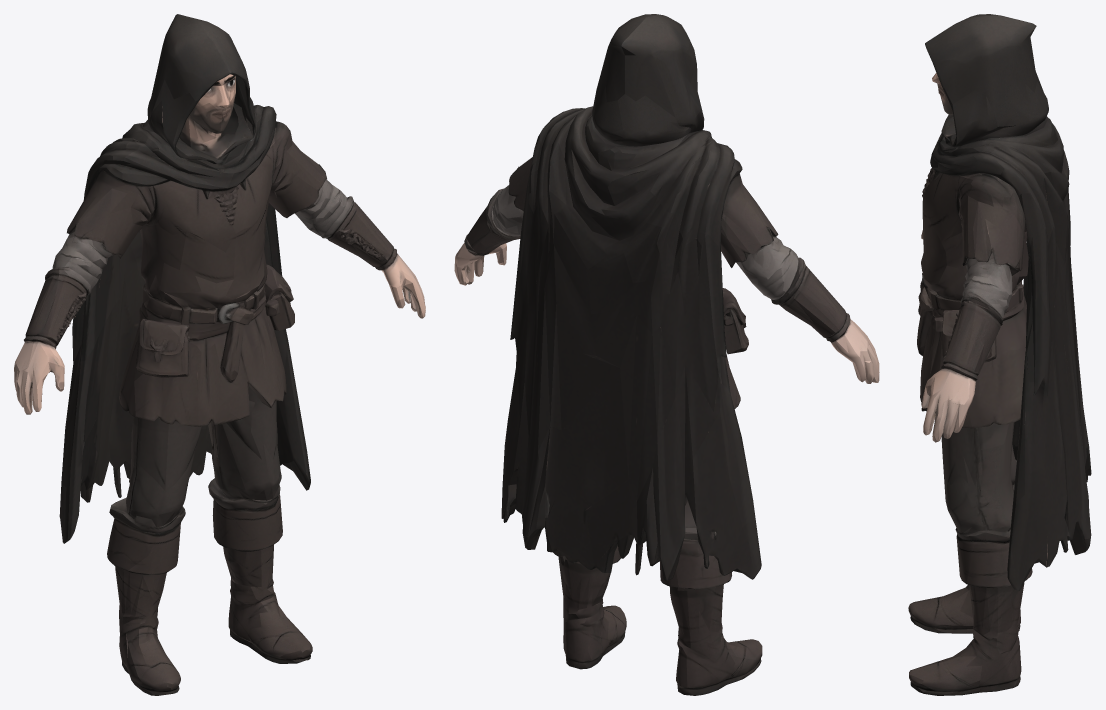
The model's file is Hooded Rogue Character Sheet_Meshy_AI_2026-09-26_8ca240.glb.
The picture shows the model from 3 angles, left to right: view 1: azimuth 30°, elevation 25°; view 2: azimuth 150°, elevation 25°; view 3: azimuth 270°, elevation 25°; orthographic projection. The views are drawn at different scales.
Parts seen in each view (by area): view 1: output_unwrapped; view 2: output_unwrapped; view 3: output_unwrapped.
Boxes of the visible parts, x1,y1,x2,y2 form: output_unwrapped: [14, 14, 425, 695]; output_unwrapped: [454, 14, 879, 695]; output_unwrapped: [908, 14, 1091, 695].
Bounding box in the file's own units: 1.27 × 1.9 × 0.4925.
Materials: 1 (1 with a texture image).
